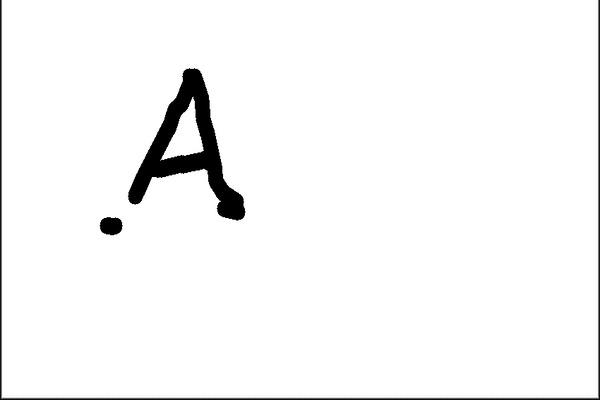A: (118, 57, 260, 225)
